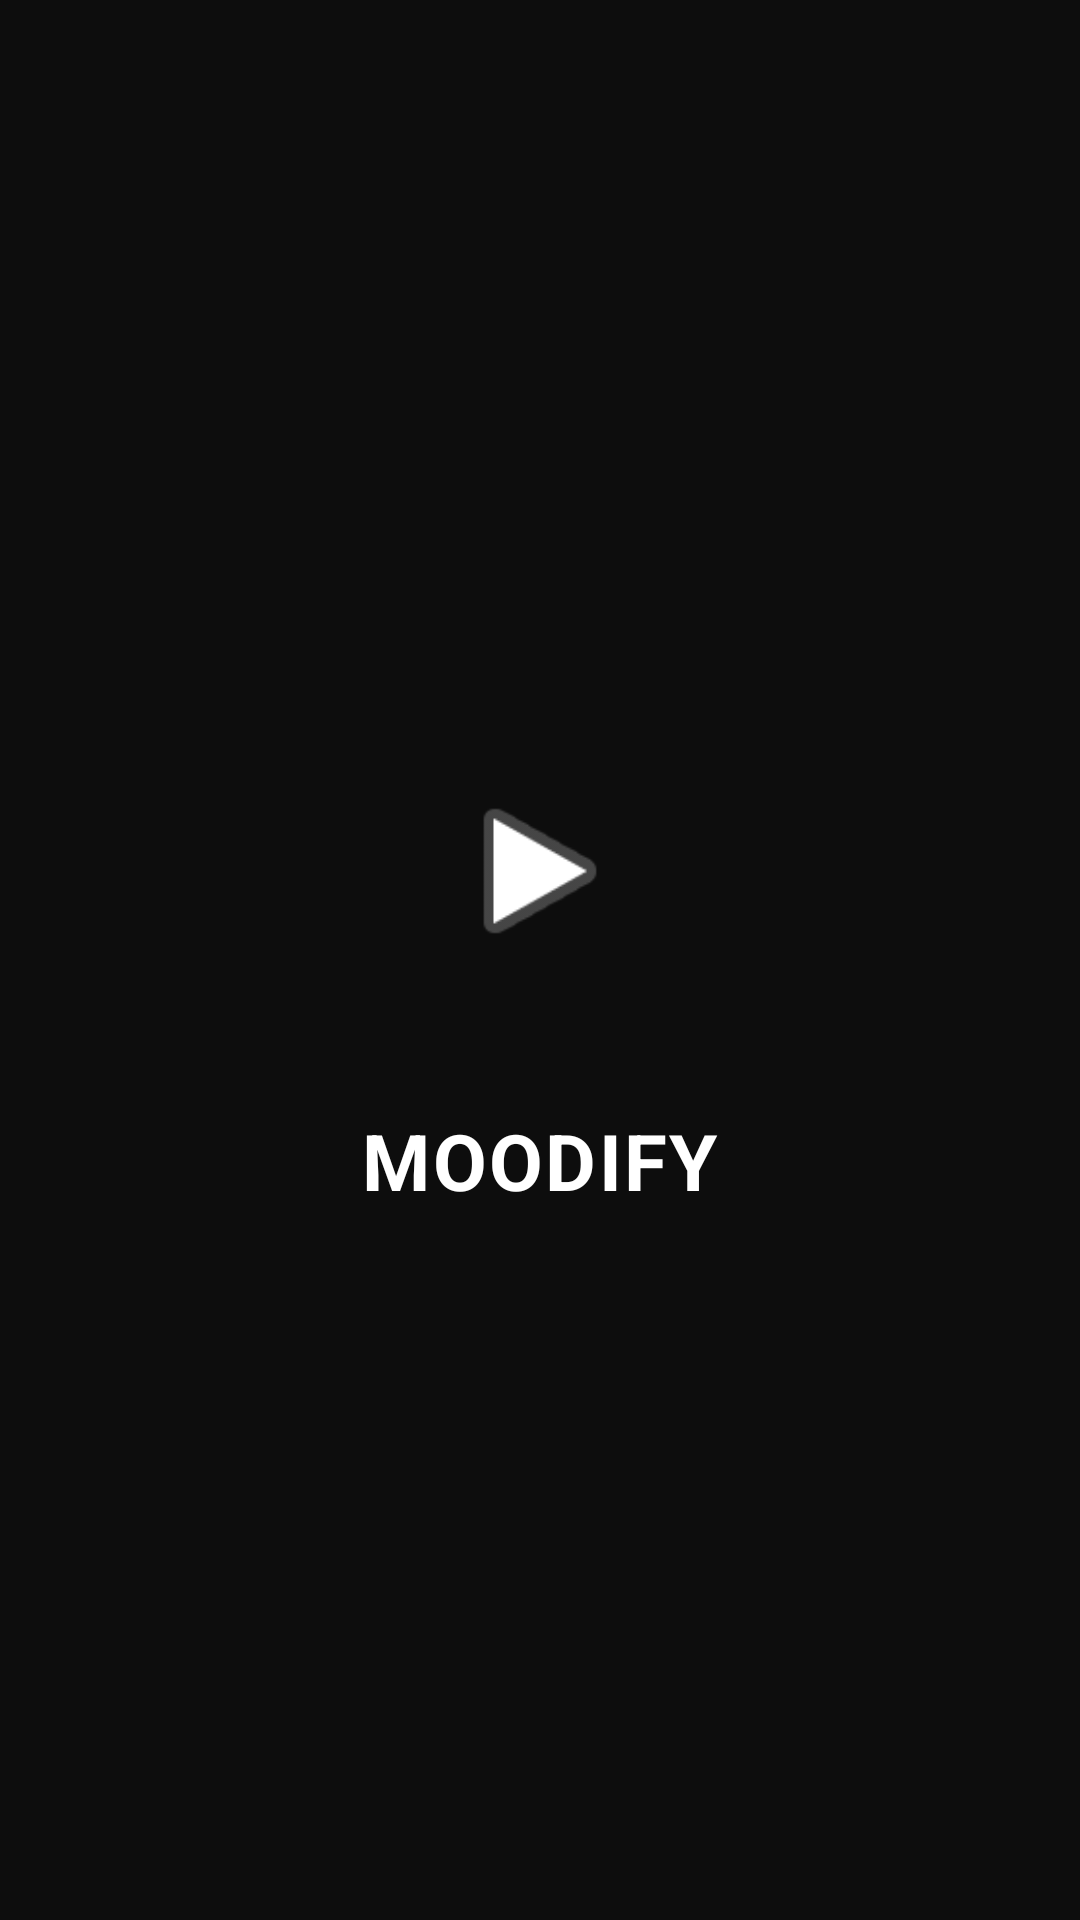

Where icons sit on this 1080 x 1920 app screen, as (x1, y1, x2, y2):
play: (484, 809, 596, 933)
